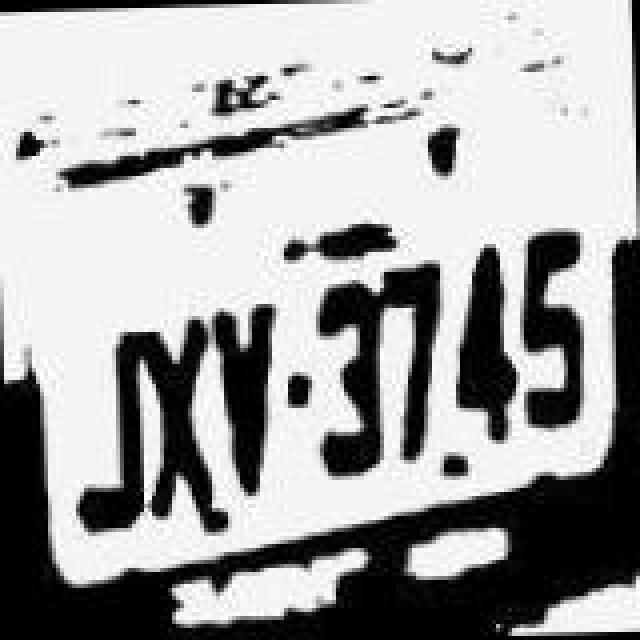3: (306, 268, 386, 516)
4: (442, 220, 518, 448)
5: (514, 200, 590, 448)
7: (380, 248, 456, 472)
J: (68, 302, 148, 546)
V: (208, 280, 284, 516)
X: (142, 286, 214, 522)
